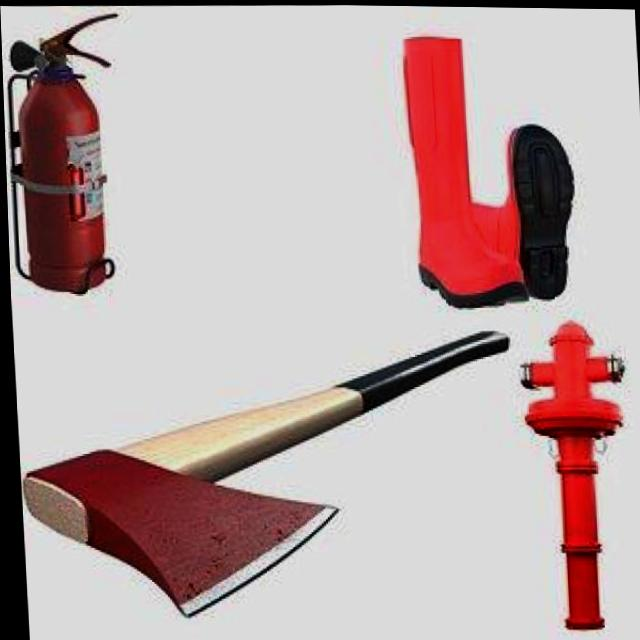FireExtinguisher: (0, 3, 132, 296)
